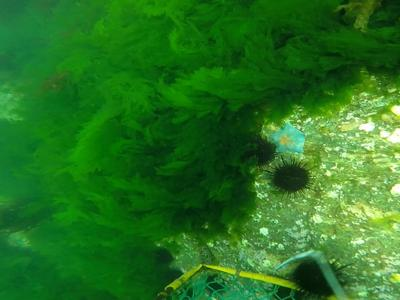urchin: (294, 263, 344, 290), (271, 162, 307, 194), (252, 137, 277, 161)
